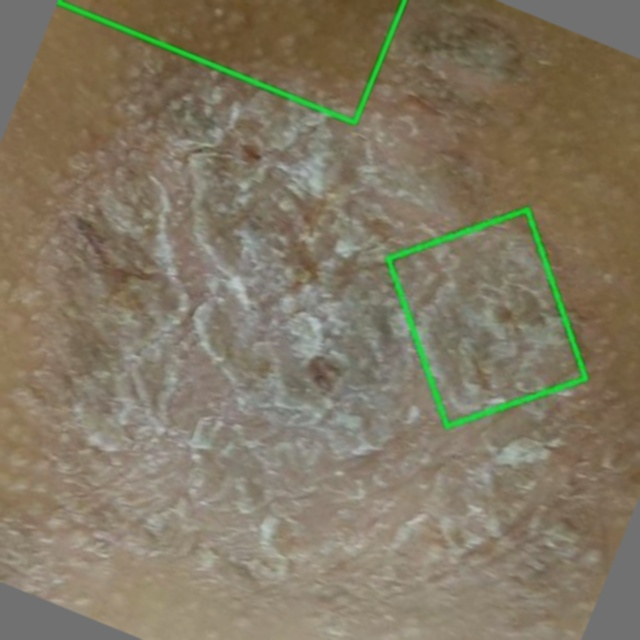Contact Dermatitis: (388, 209, 585, 425)
